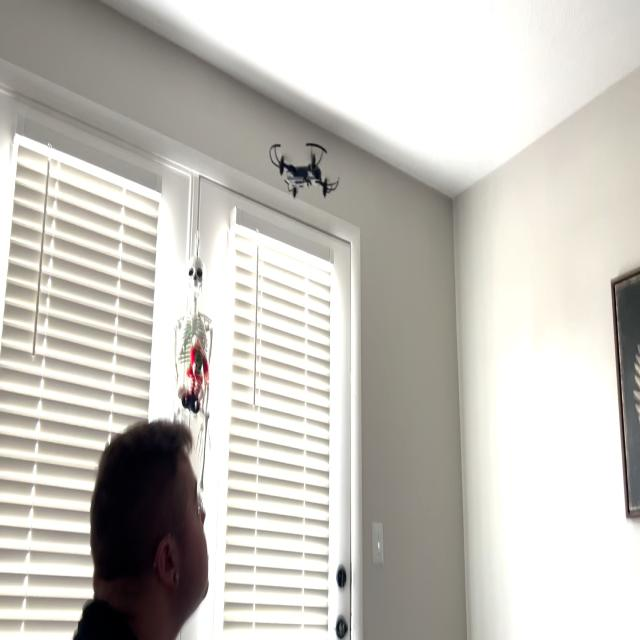drone: (258, 120, 348, 208)
